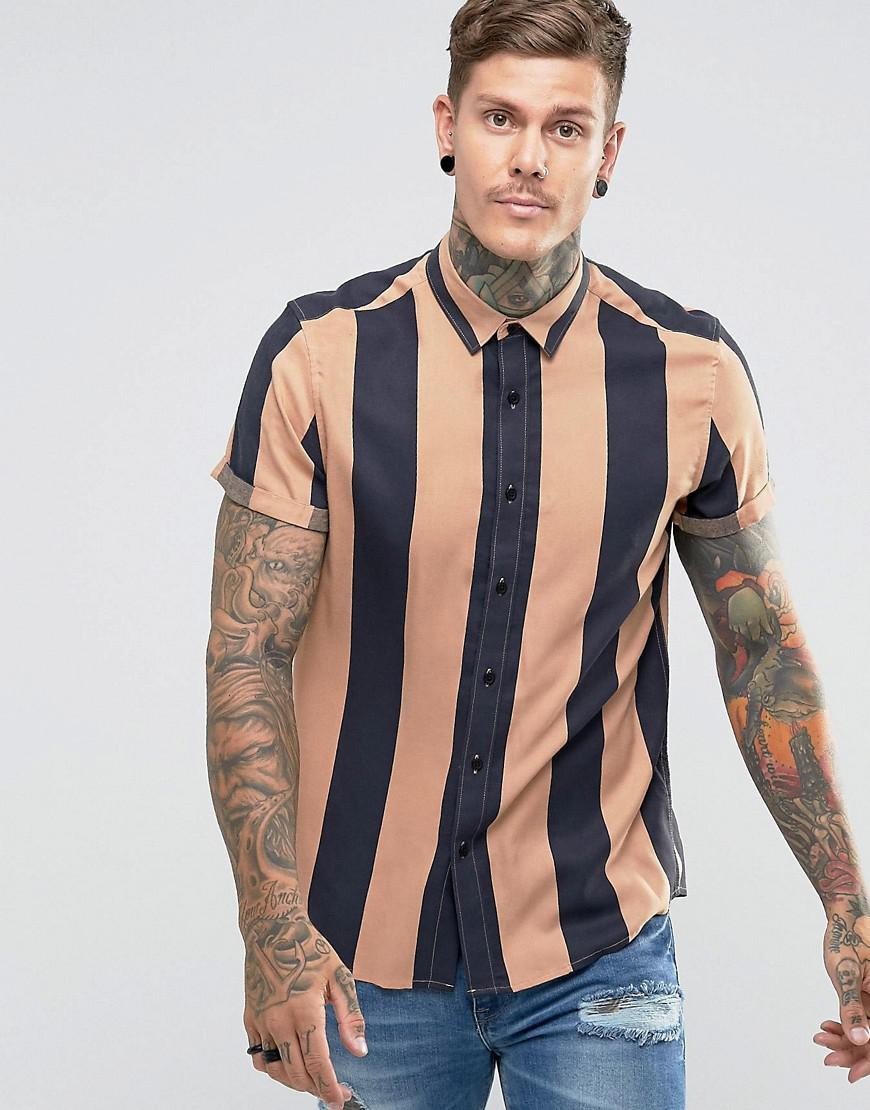teeshirt: (201, 217, 786, 1000)
